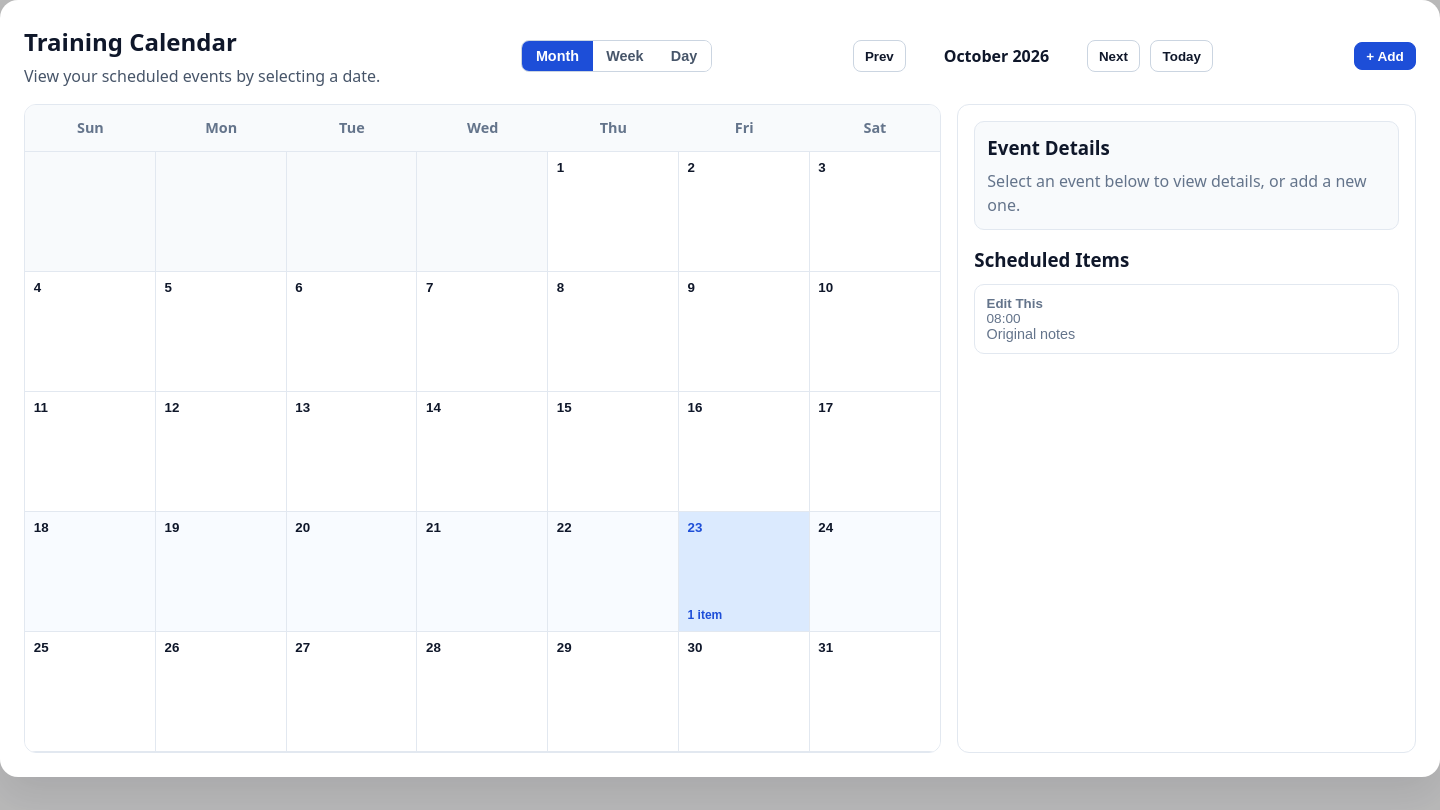
Test case: Calendar Component › opens edit form when Edit is clicked
Step 1. Click the button "Edit This 08:00 Original notes" → coordinates (1015, 304), box x1=974 y1=284 x2=1399 y2=354
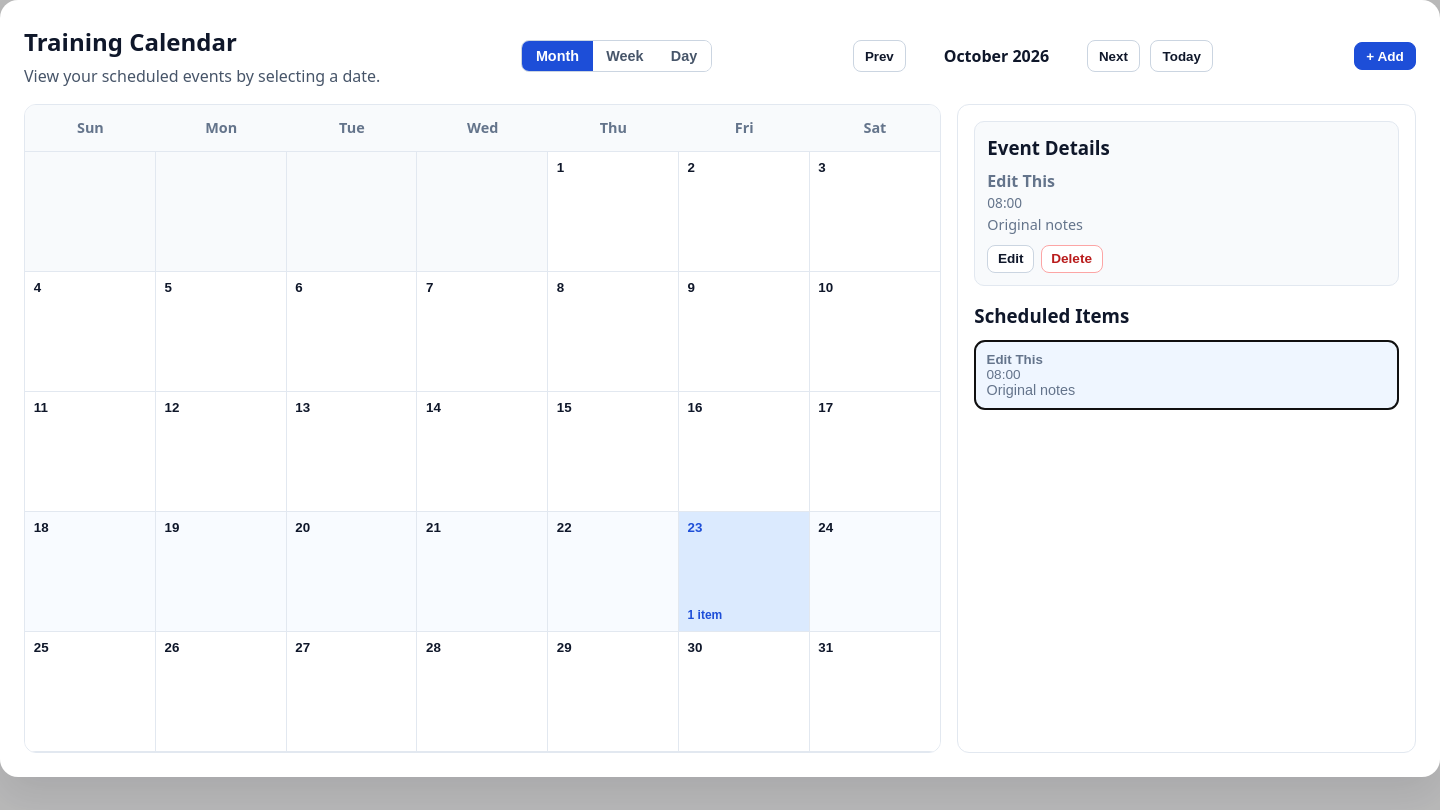
Step 2. Click the button "Edit" → coordinates (1011, 259), box x1=987 y1=245 x2=1034 y2=273
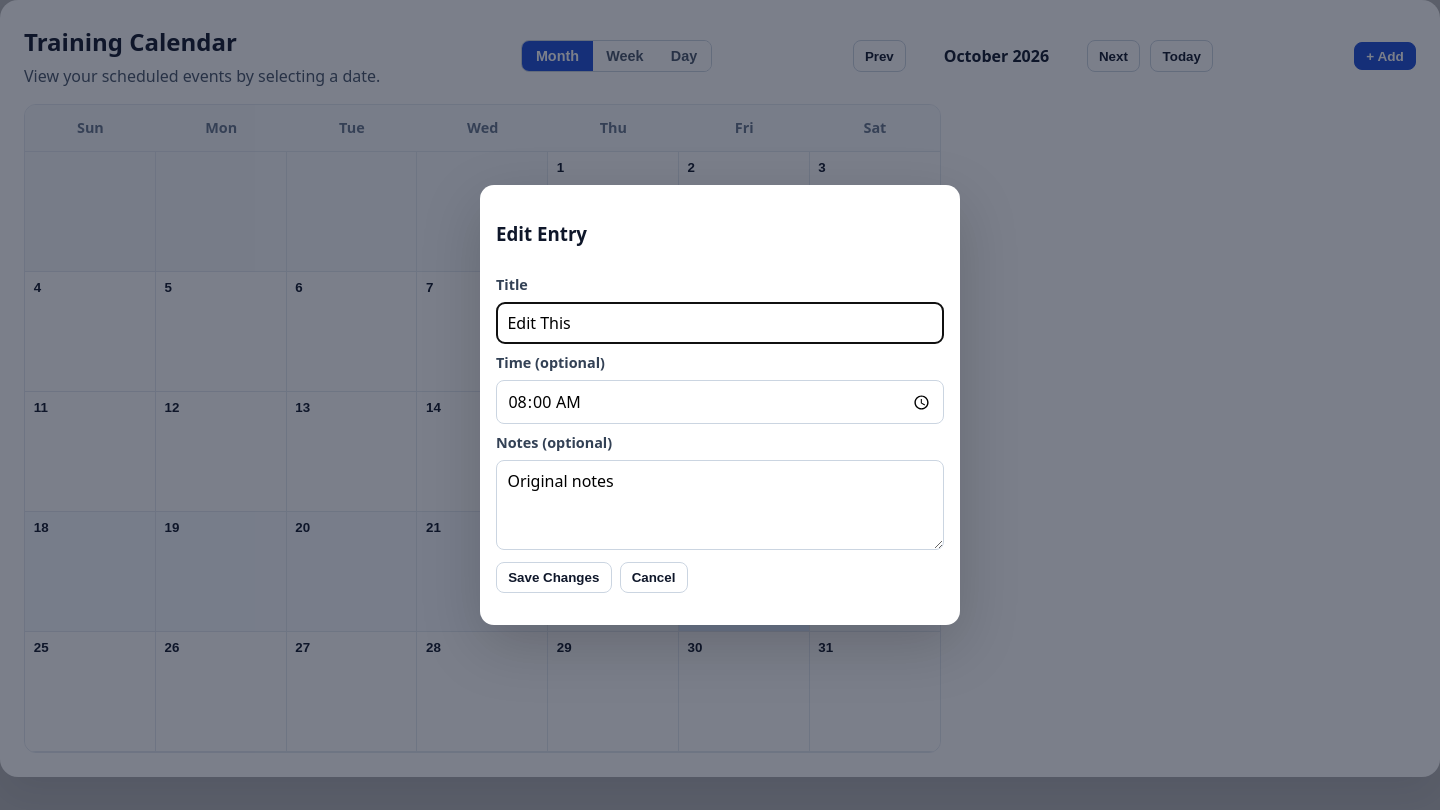
Expected: the form "Edit Entry" is shown, x1=496 y1=201 x2=944 y2=593
Expected: the field labelled "Title" holds "Edit This", x1=496 y1=302 x2=944 y2=344
